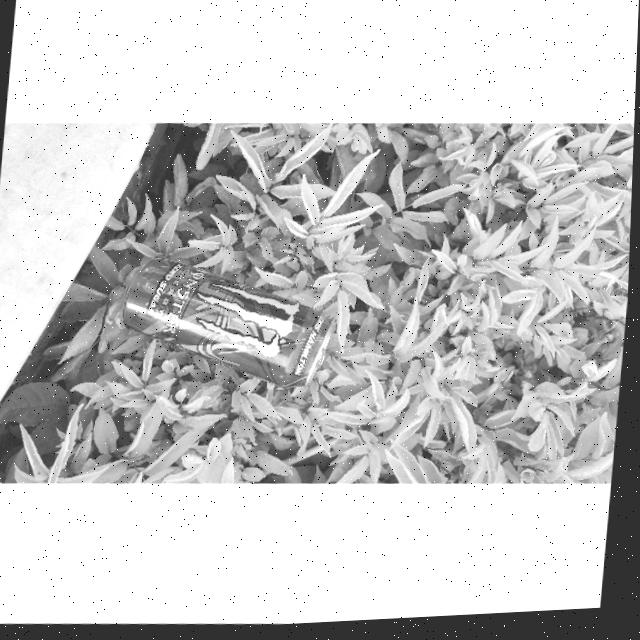Monster LH44: (119, 248, 337, 398)
